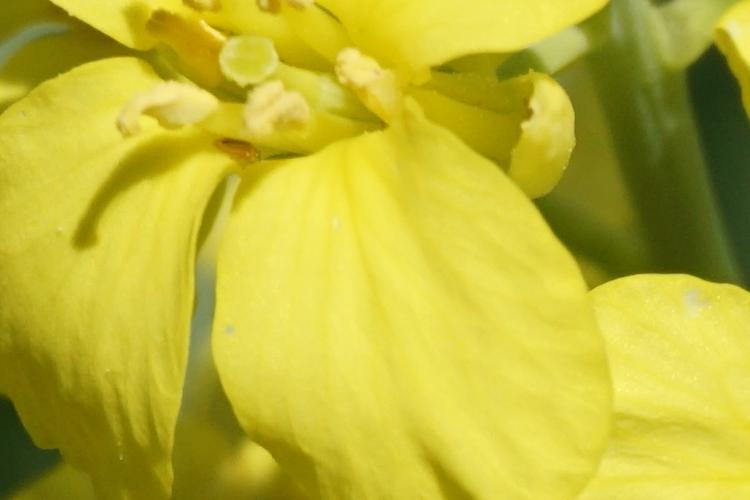yellow: (8, 4, 627, 479)
